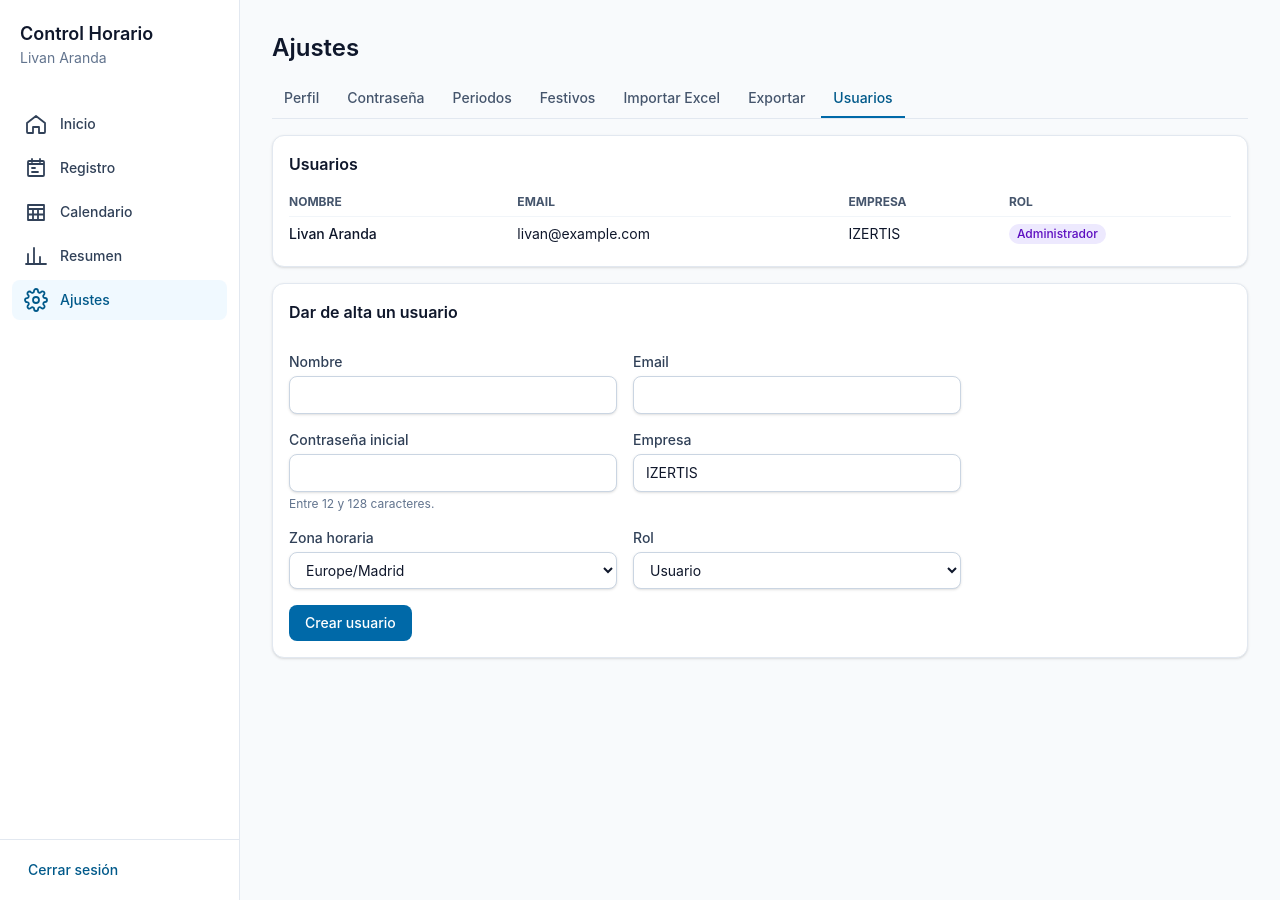
Test: Ajustes › solo el ADMIN ve y da de alta usuarios
Expected: the table named "Usuarios de la aplicación" shows "livan@example.com", [517,224,650,242]
Type "Ana" into the field labelled "Nombre".
click(453, 395); type("Ana")  # box [289,376,617,414]
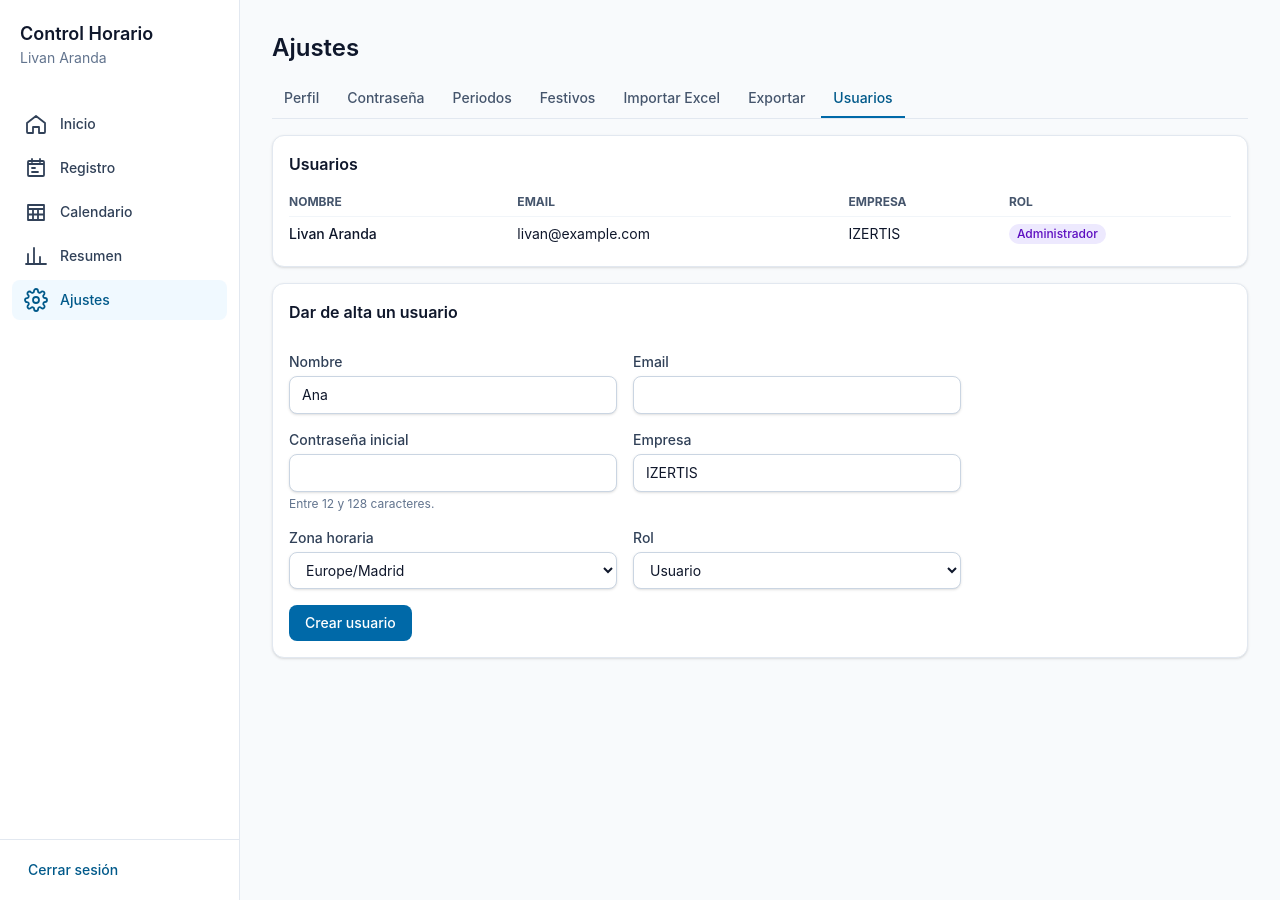
Type "livan@example.com" into the field labelled "Email".
click(797, 395); type("livan@example.com")  # box [633,376,961,414]
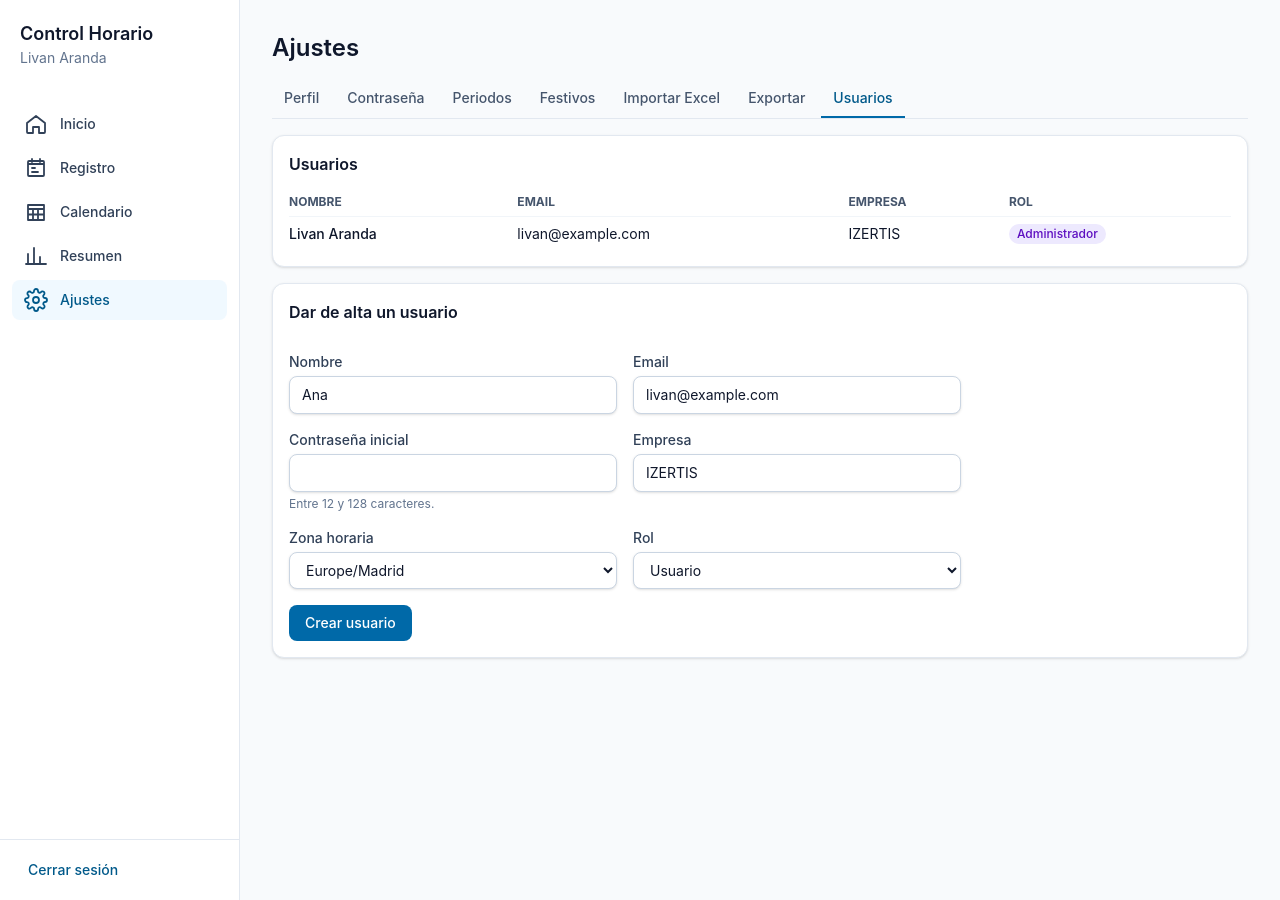
Type "una-contraseña-segura" into the password field labelled "Contraseña inicial".
click(453, 473); type("una-contraseña-segura")  # box [289,454,617,492]
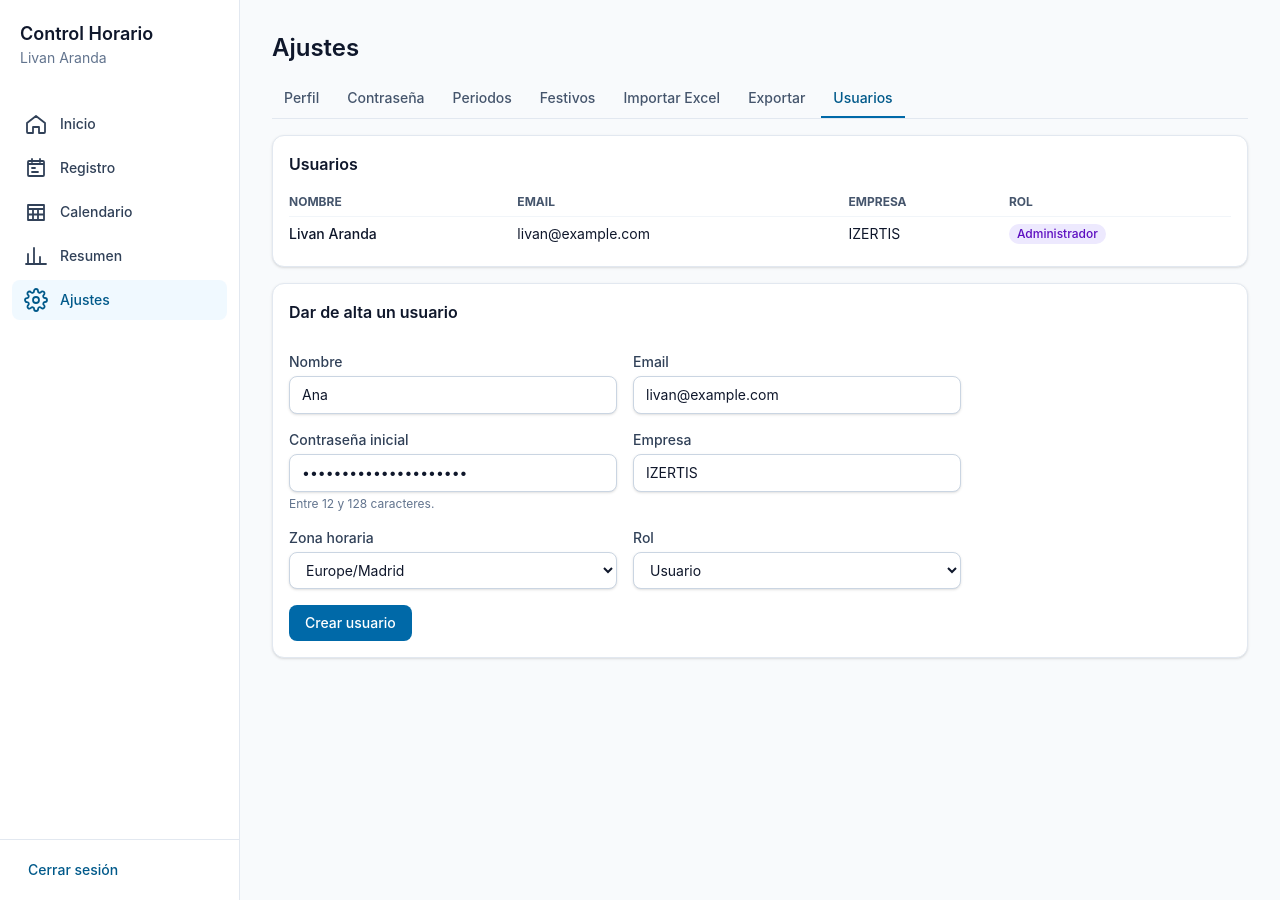
Click the button "Crear usuario".
click(350, 623)  # box [289,605,412,641]
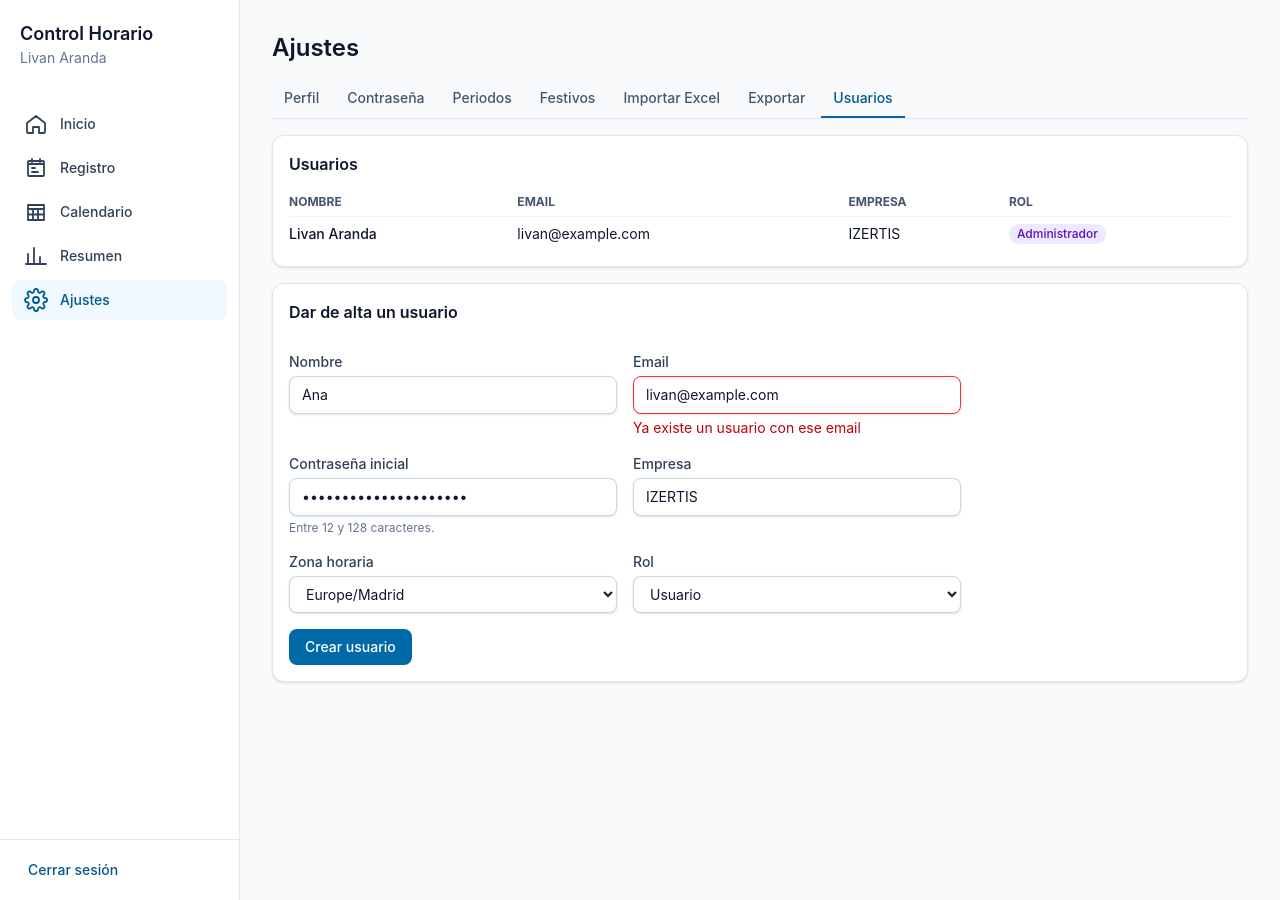
Expected: the text "Ya existe un usuario con ese email" is shown, [633,419,861,436]
